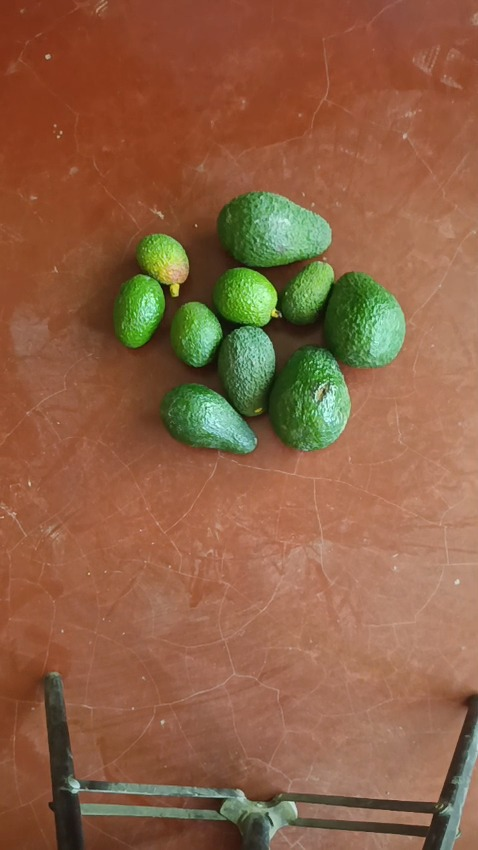Primera: (216, 192, 332, 268), (268, 346, 350, 449), (323, 271, 406, 368)
Segunda: (158, 382, 257, 453), (217, 326, 276, 416)
Tercera: (212, 267, 278, 327), (113, 274, 165, 348), (278, 261, 334, 325), (170, 301, 222, 367), (135, 232, 189, 285)
